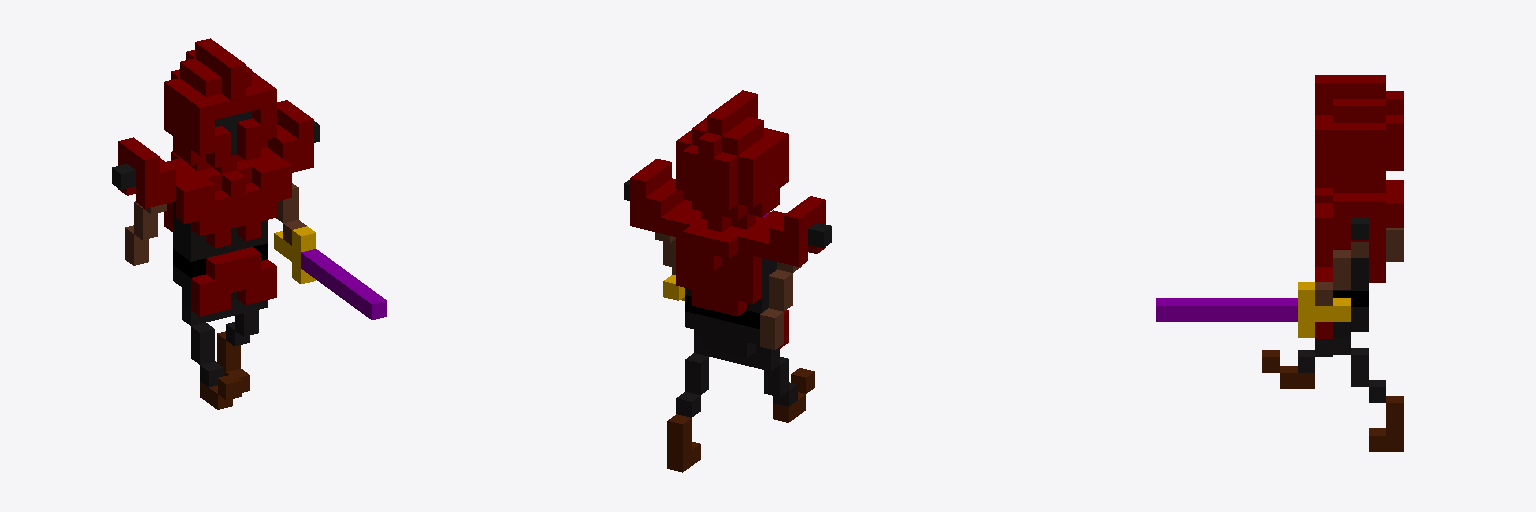
The picture shows the model from 3 angles: view 1: azimuth 30°, elevation 25°; view 2: azimuth 150°, elevation 25°; view 3: azimuth 270°, elevation 25°; orthographic projection.
Visible parts, largest first — view 1: SwingingBlackNight-2; view 2: SwingingBlackNight-2; view 3: SwingingBlackNight-2.
Part boxes in pixels (bbox=[...]): SwingingBlackNight-2: bbox=[112, 38, 386, 409]; SwingingBlackNight-2: bbox=[624, 90, 831, 472]; SwingingBlackNight-2: bbox=[1156, 75, 1403, 451].
Size of the model in its own units: 13 by 22 by 14.
1 materials, 1 textured.